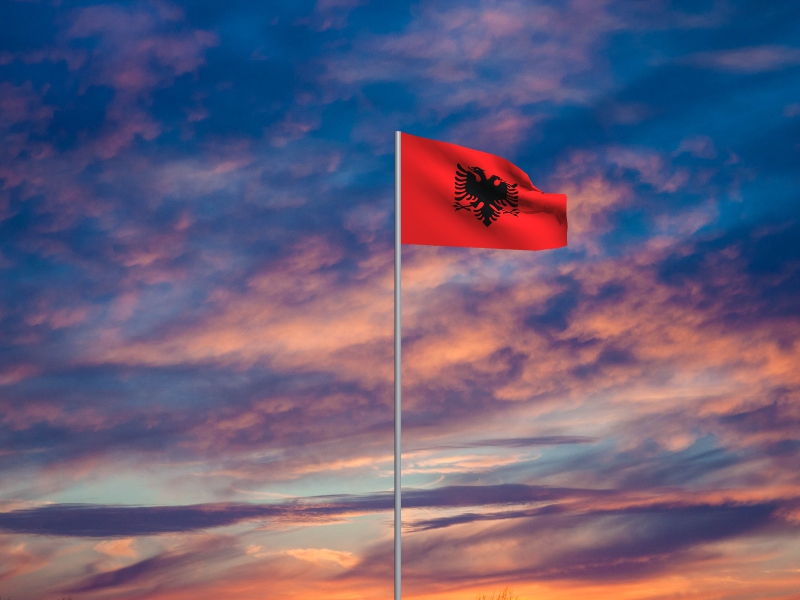al: (402, 133, 570, 252)
